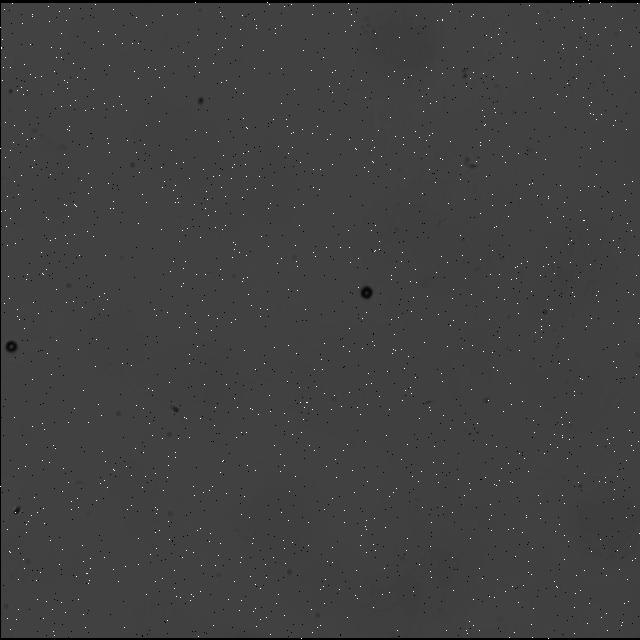microbeads: (357, 284, 375, 302), (2, 336, 18, 356)
